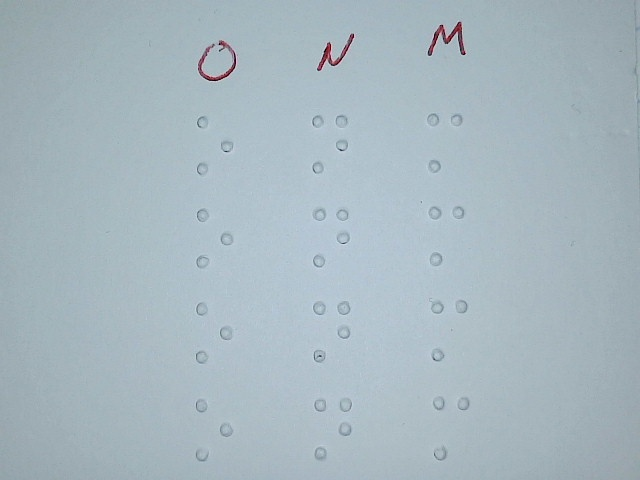M: (424, 109, 465, 174), (426, 203, 467, 268), (429, 297, 470, 362), (430, 395, 471, 460)
N: (309, 111, 350, 176), (311, 205, 352, 270), (311, 298, 352, 363), (313, 395, 354, 460)
O: (194, 113, 235, 178), (194, 206, 235, 271), (194, 300, 235, 365), (193, 396, 234, 461)
